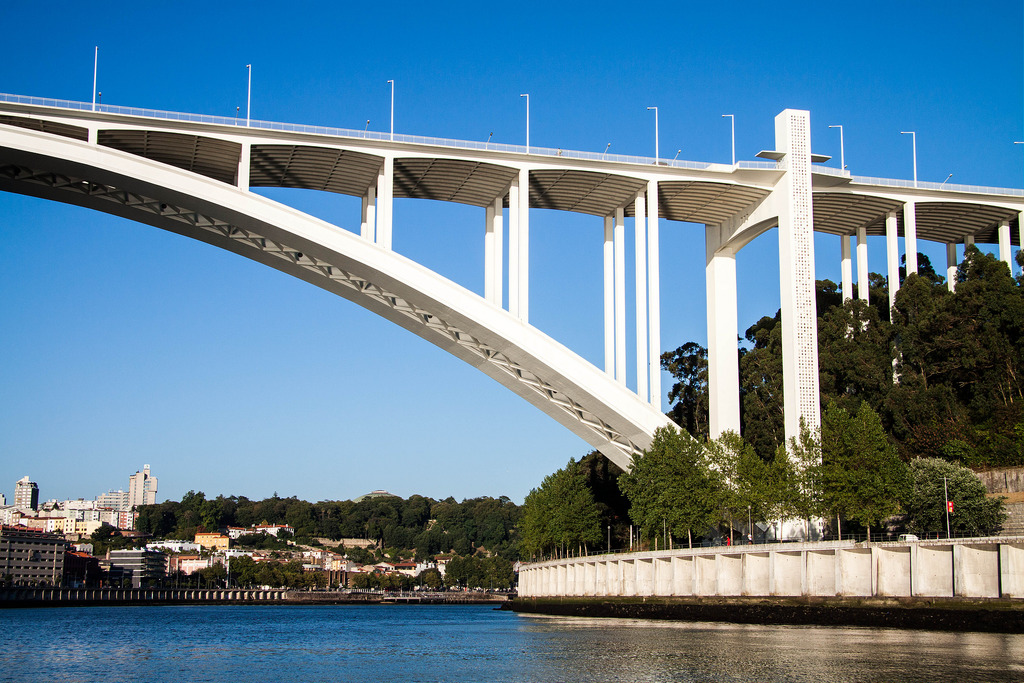arrabida: (0, 94, 1023, 542)
